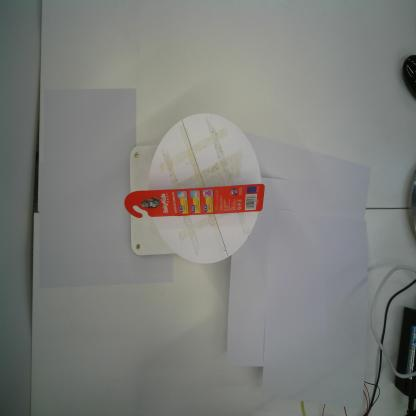Personal Hygiene: (124, 183, 265, 219)
